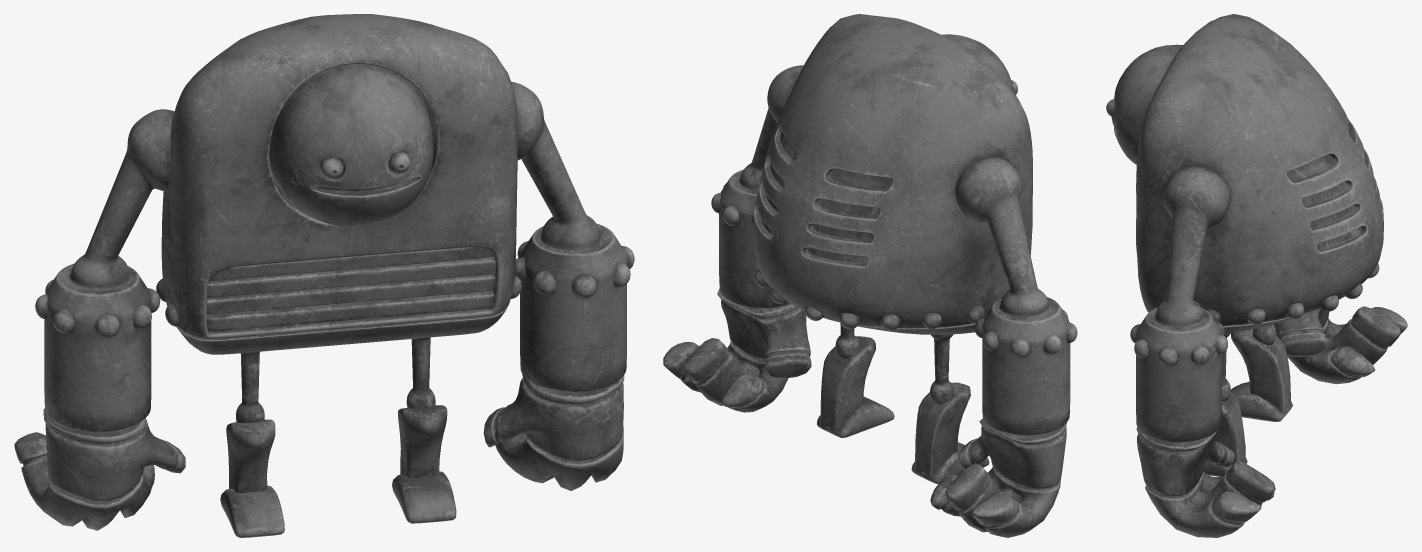
The model's file is robot.glb.
The picture shows the model from 3 angles, left to right: view 1: azimuth 30°, elevation 25°; view 2: azimuth 150°, elevation 25°; view 3: azimuth 270°, elevation 25°; orthographic projection. The views are drawn at different scales.
Visible parts, largest first — view 1: CHARACTER; view 2: CHARACTER; view 3: CHARACTER.
Boxes of the visible parts, x1,y1,x2,y2 form: CHARACTER: [14, 14, 634, 537]; CHARACTER: [663, 14, 1077, 537]; CHARACTER: [1106, 14, 1407, 537].
Bounding box in the file's own units: 6.85 × 6.21 × 4.19.
Materials: 1 (1 with a texture image).
